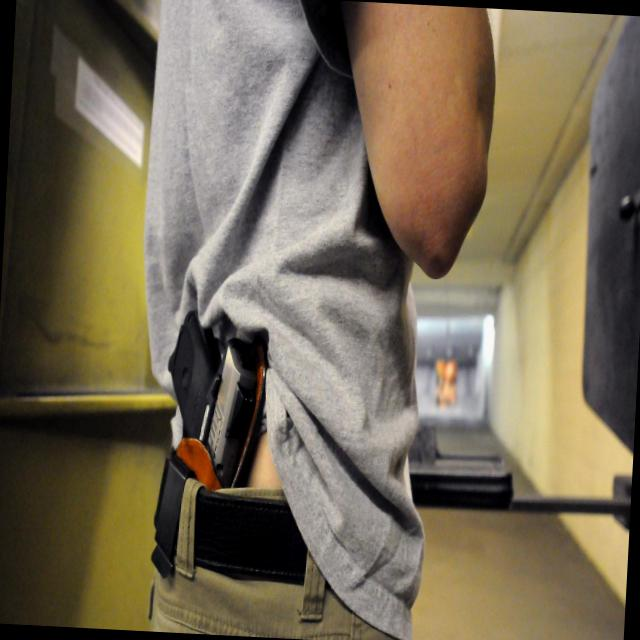handgun: (150, 310, 264, 500)
